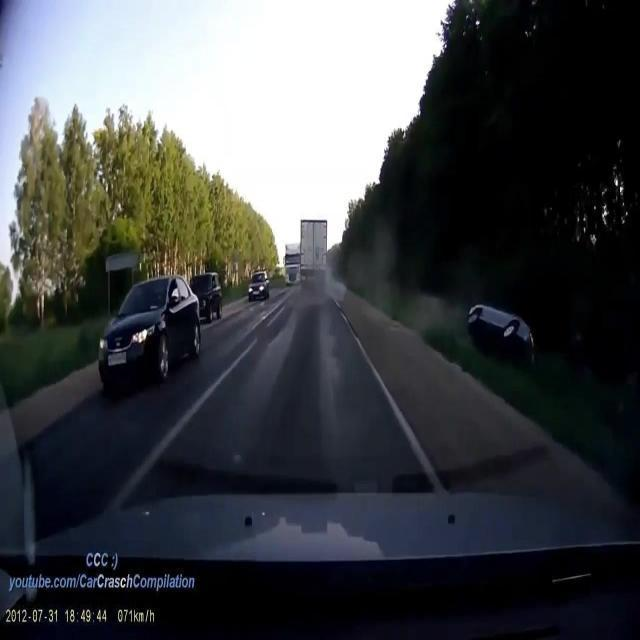accident: (466, 292, 539, 369)
